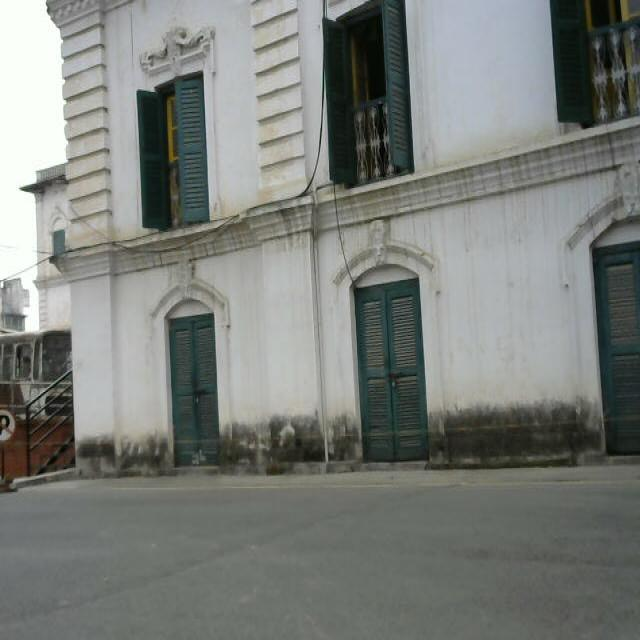Buildings: (47, 0, 640, 483)
NoParking: (0, 405, 18, 493)
Road: (0, 468, 640, 640)
